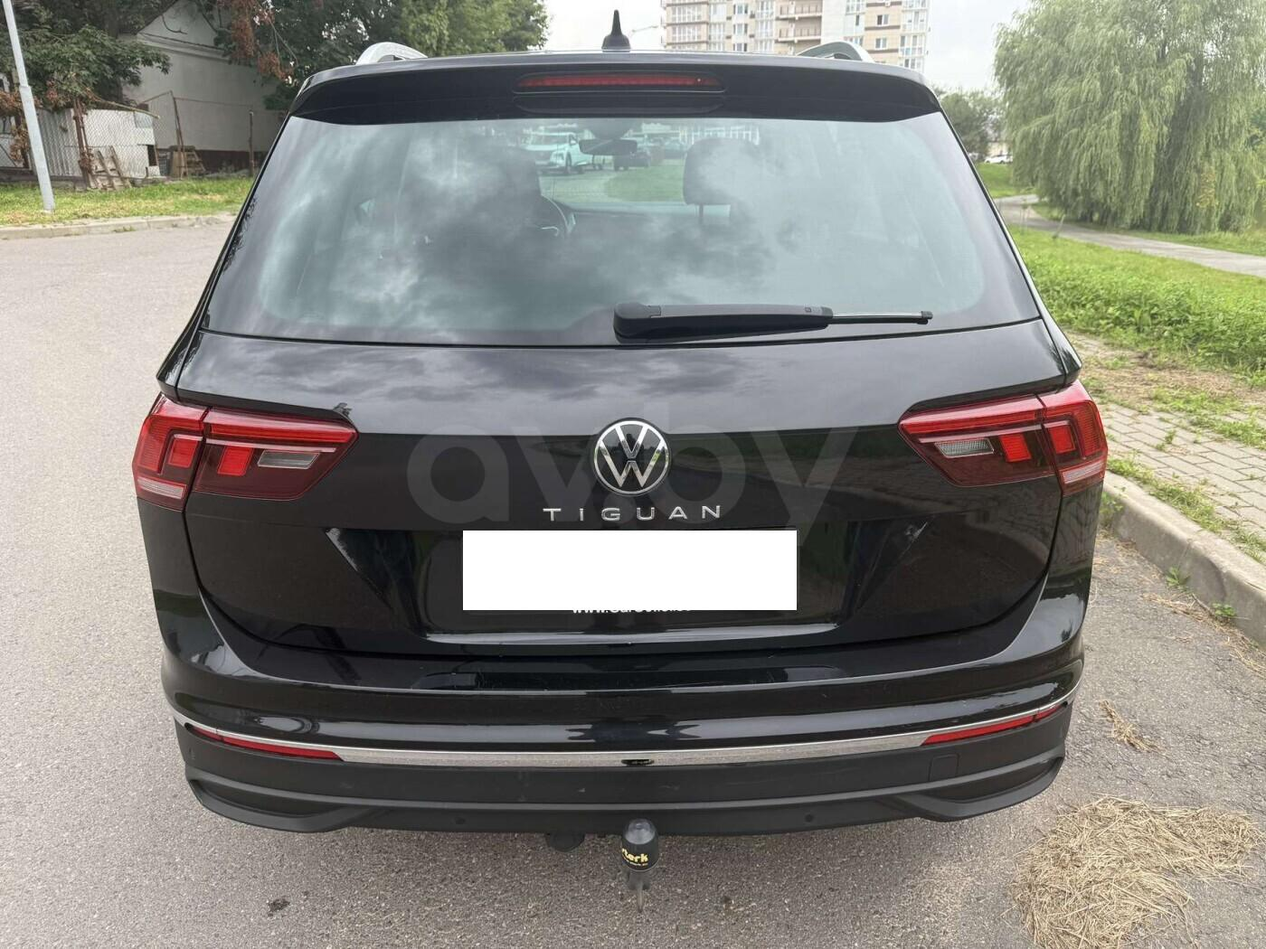Tiguan_2020-2024: (128, 43, 1112, 843)
